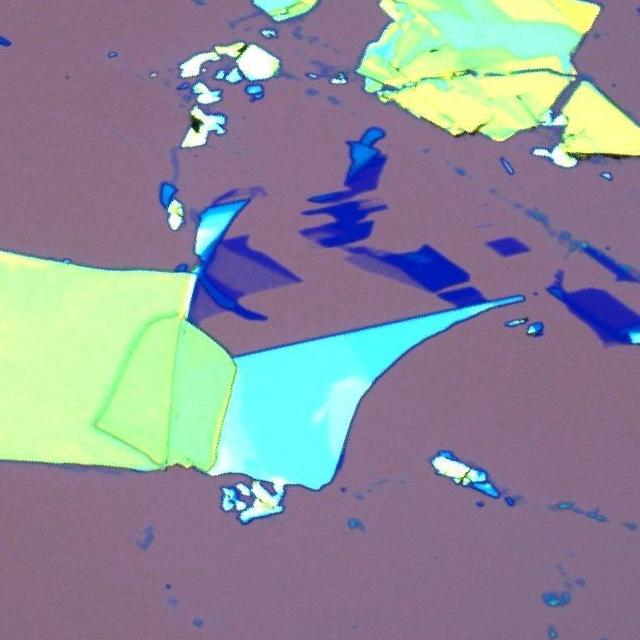monolayer-eWW4: (210, 247, 296, 300), (342, 253, 424, 292), (192, 285, 228, 328)
